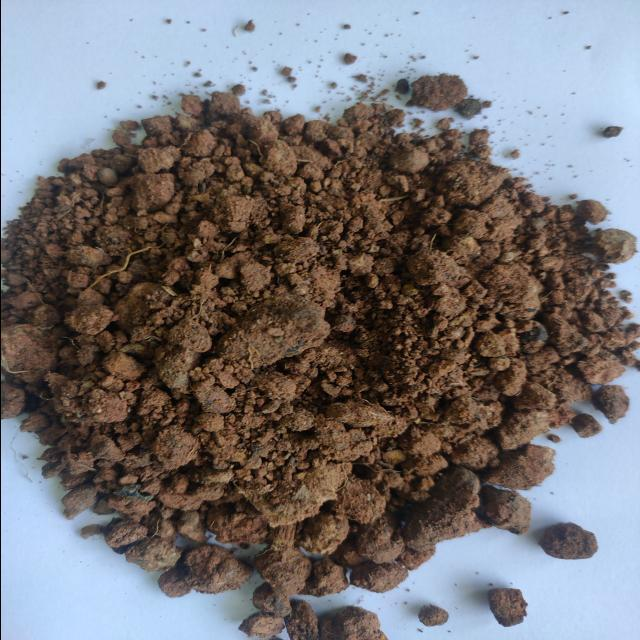soil: (101, 171, 545, 548)
